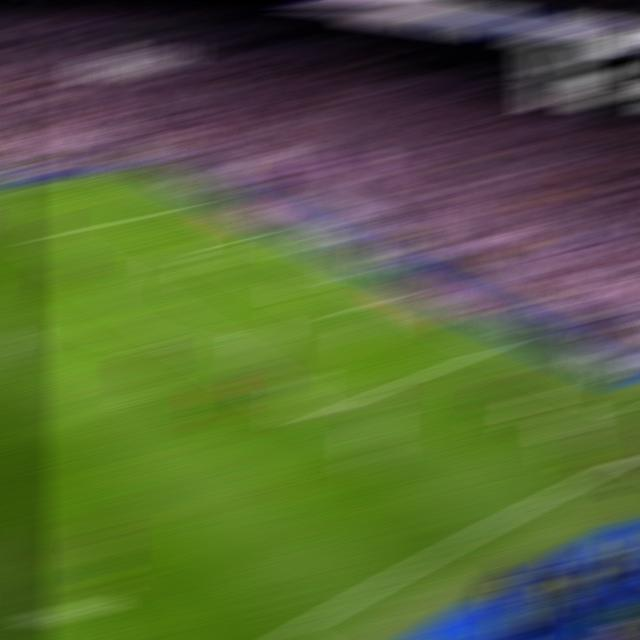bigarea_bottom_inner: (297, 408, 331, 426)
bigarea_bottom_outter: (483, 339, 516, 350)
bottom_arc_area_intersection: (184, 336, 217, 349)
corner: (116, 171, 147, 174)
smallarea_bottom_inner: (326, 305, 357, 320)
smallarea_bottom_outter: (377, 290, 409, 300)
smallarea_top_inner: (201, 243, 228, 249)
top_arc_area_intersection: (90, 275, 122, 286)
